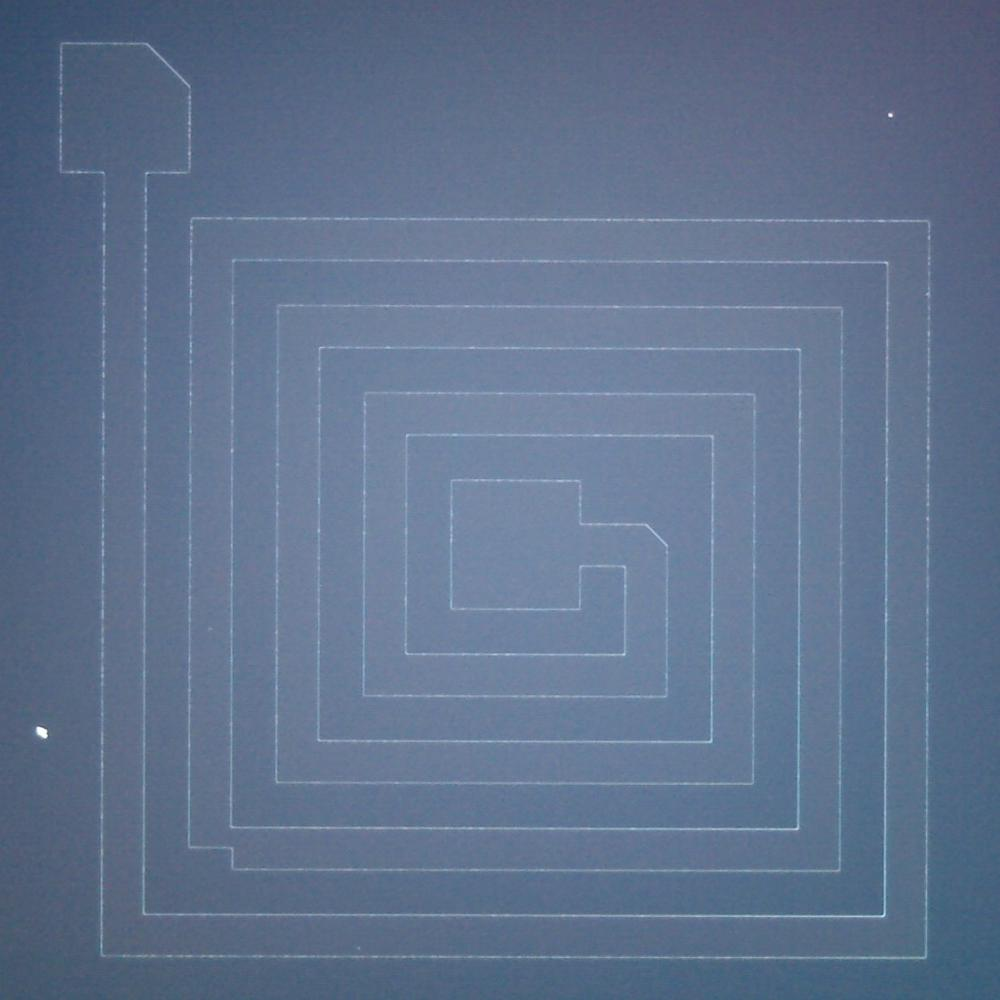dot: (36, 726, 48, 738), (888, 112, 893, 118)
